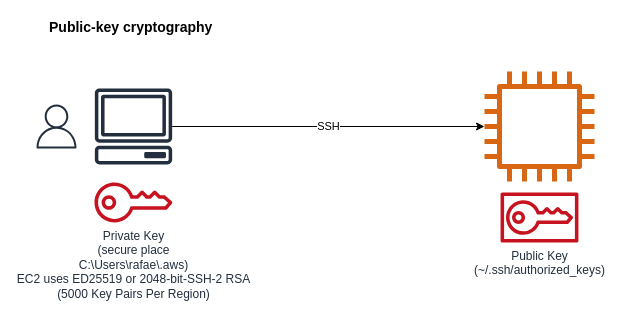
Image size: 622x318. Some labels were removed from this diagram. Each missing label, with the centre of its shape:
EC2 instance (Linux): [539,126]
User: [56,126]
